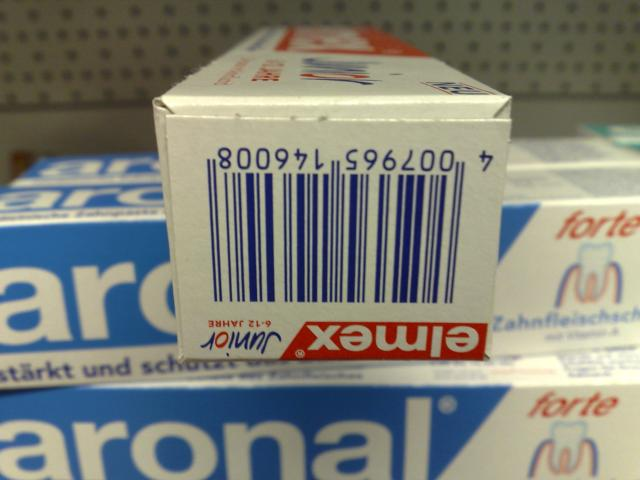Barkod: (200, 172, 464, 302)
